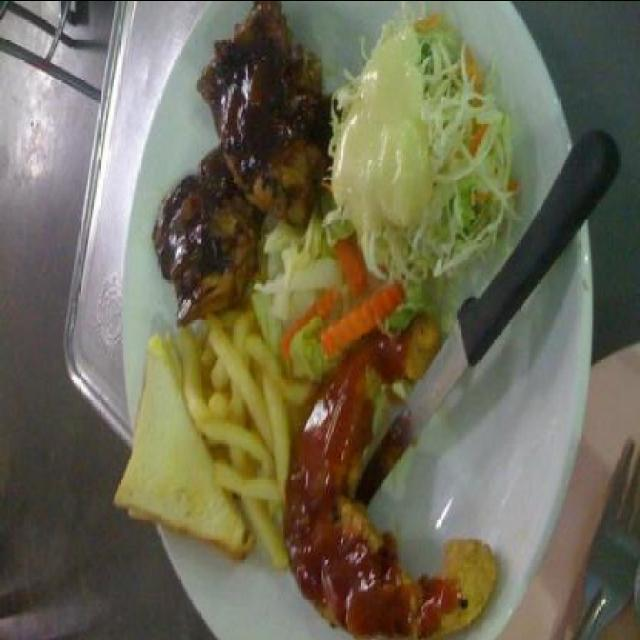French fries: (202, 318, 286, 491)
Sandwich: (109, 323, 220, 597)
Steak: (140, 18, 322, 302)
